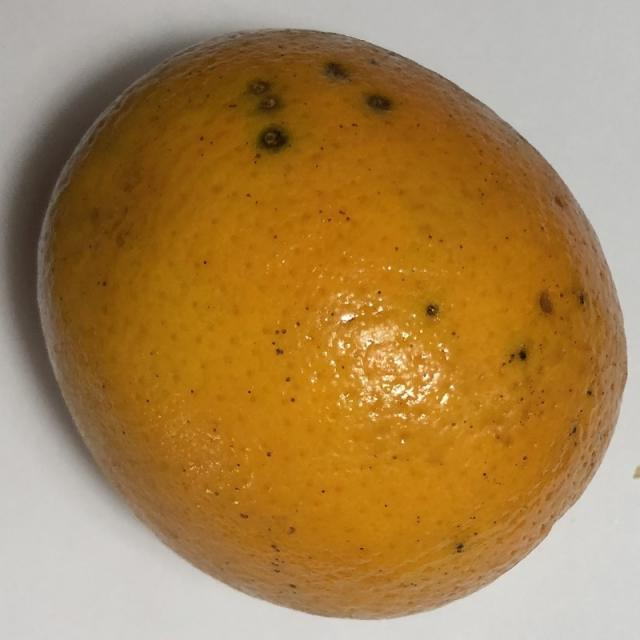blackspot: (22, 16, 630, 633)
